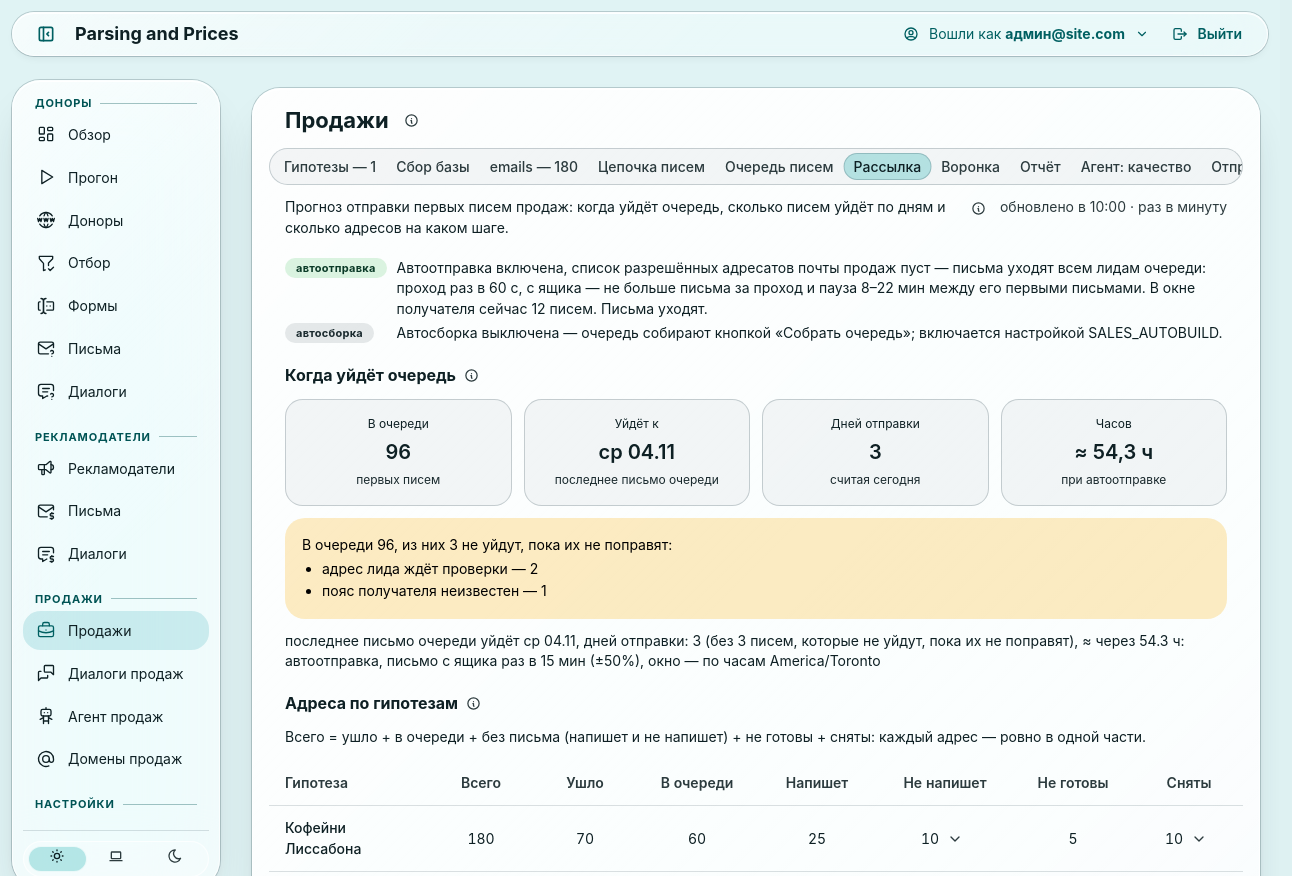
Test: рассылка: адреса по частям › почему сборка не напишет и почему сняты — раскрытием под строкой своей гипотезы
Expected: the element "Когда уйдёт очередь" is shown, [269,363,1243,671]
Expected: the text "цепочка на португальском задана не целиком — 10" is not shown
Click the button named "Почему сборка не напишет: «Кофейни Лиссабона» — 10" at (955,839), box [941,825,969,853]
(page scrolled)
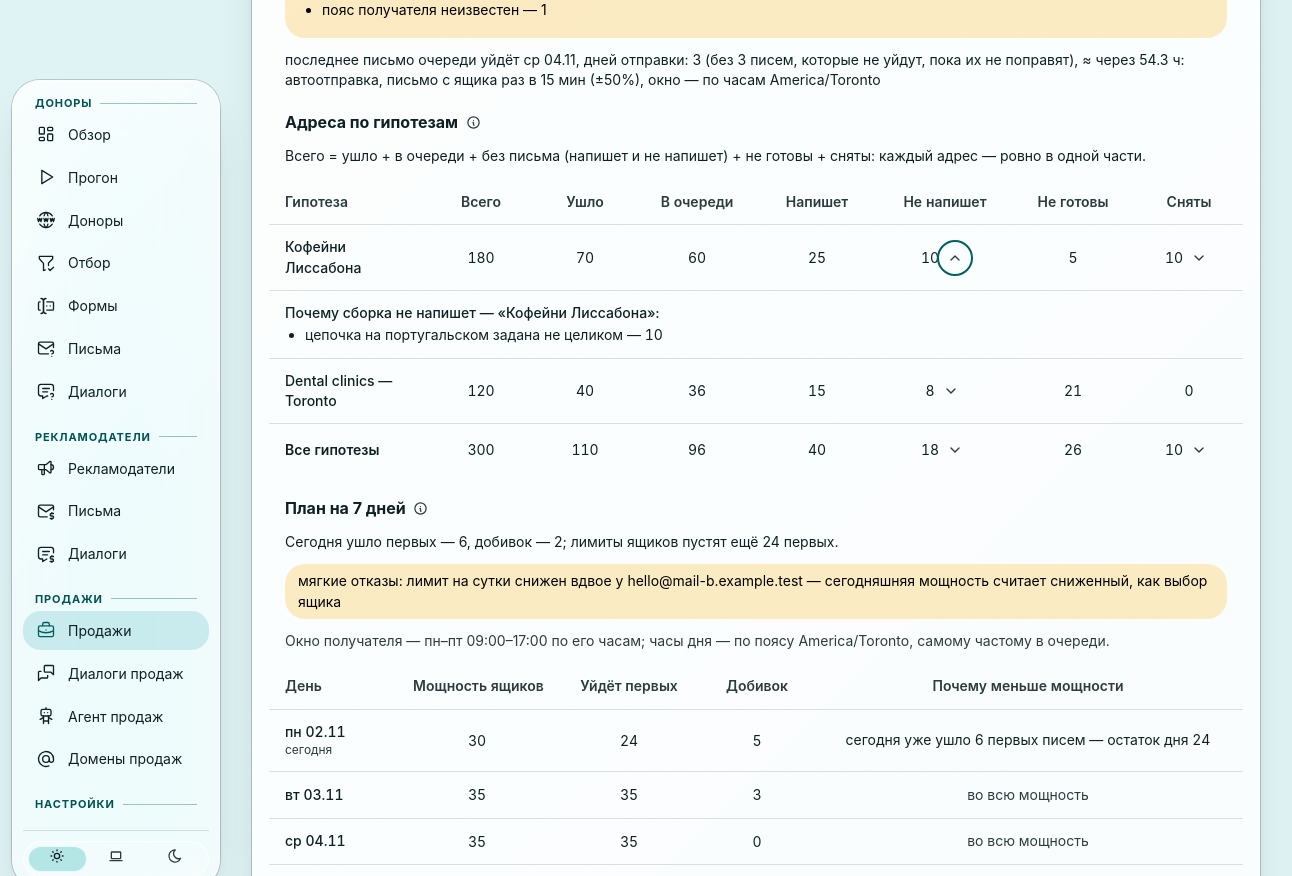
Result: the button named "Почему сборка не напишет: «Кофейни Лиссабона» — 10" is expanded at [941,244,969,272]
Click the button named "Почему сняты: все гипотезы — 10" at (1199,450), box [1185,436,1213,464]
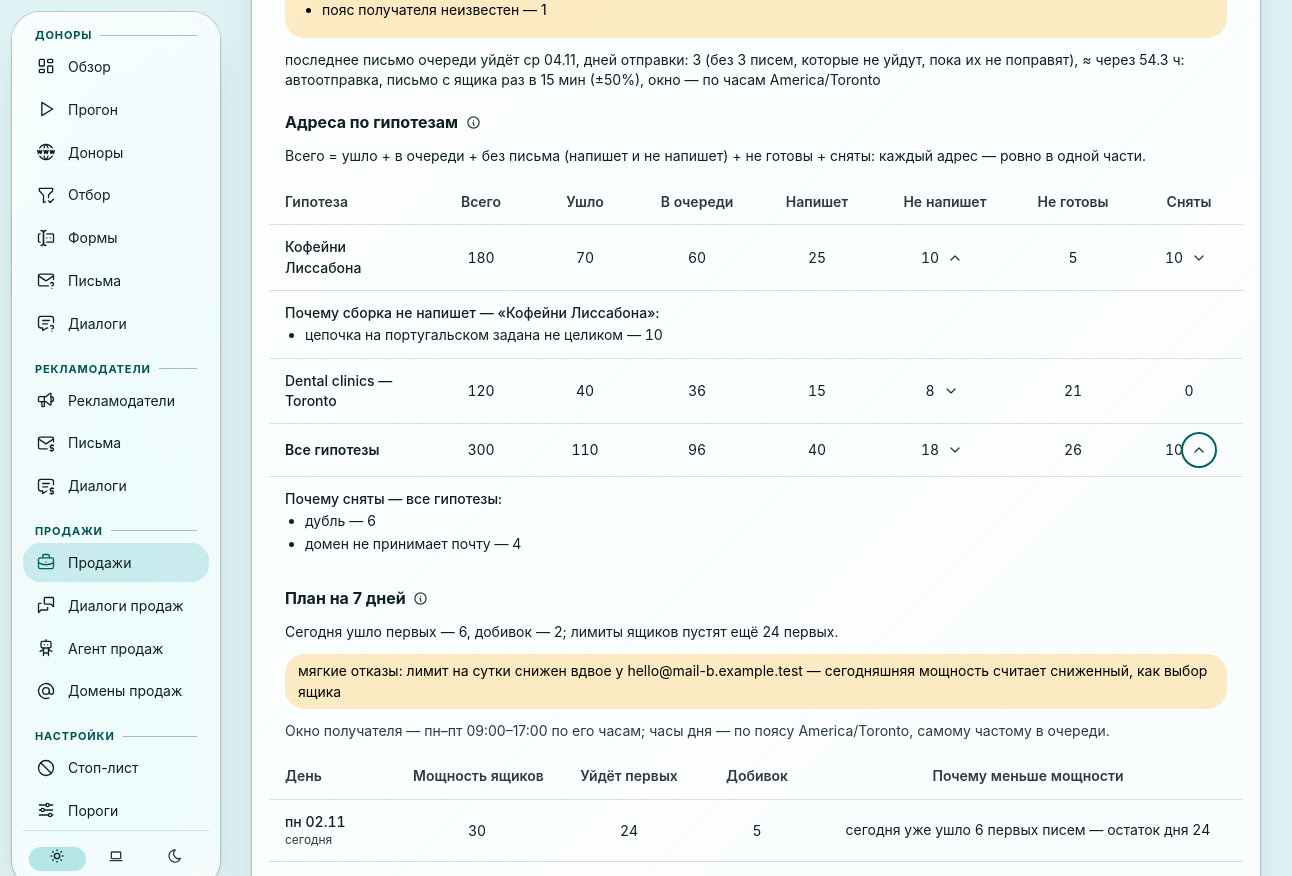
Result: the text "дубль — 6" is shown at [305,511,376,532]
Result: the text "домен не принимает почту — 4" is shown at [305,534,521,554]
Click the button named "Почему сборка не напишет: «Кофейни Лиссабона» — 10" at (955,258), box [941,244,969,272]
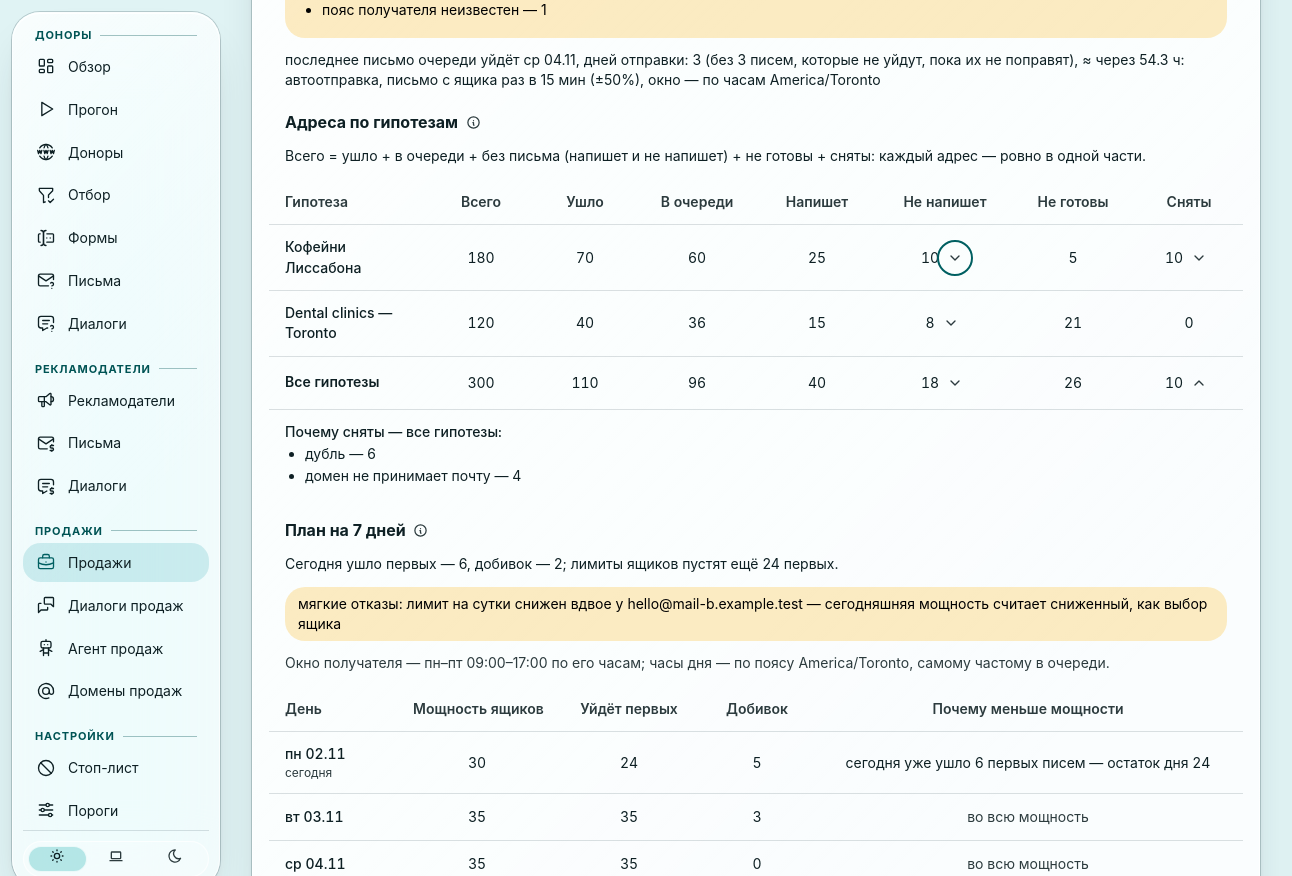
Result: the button named "Почему сборка не напишет: «Кофейни Лиссабона» — 10" is collapsed at [941,244,969,272]
Result: the text "цепочка на португальском задана не целиком — 10" is gone
